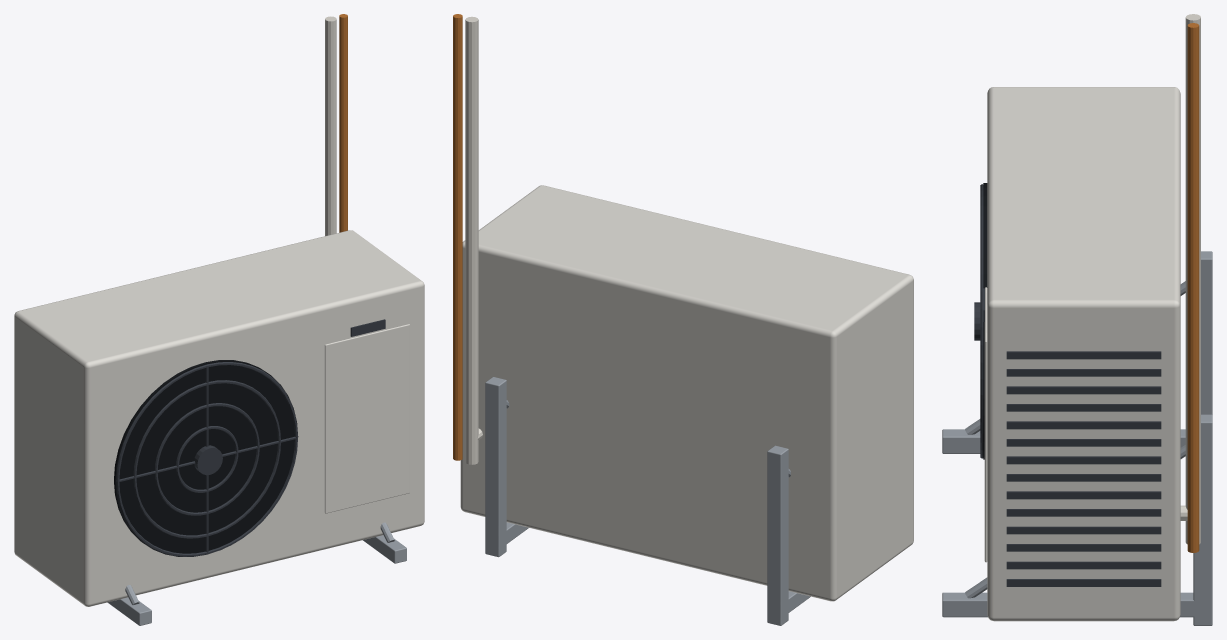
The model's file is ac_unit.glb.
3 views of the same model, side by side, from view 1: azimuth 30°, elevation 25°; view 2: azimuth 150°, elevation 25°; view 3: azimuth 270°, elevation 25° (orthographic). The views are drawn at different scales.
Visible parts, largest first — view 1: ac_unit; view 2: ac_unit; view 3: ac_unit.
Boxes of the visible parts, x1,y1,x2,y2 form: ac_unit: [14, 14, 424, 625]; ac_unit: [453, 14, 913, 625]; ac_unit: [942, 14, 1212, 625].
Bounding box in the file's own units: 0.803 × 1.06 × 0.42.
